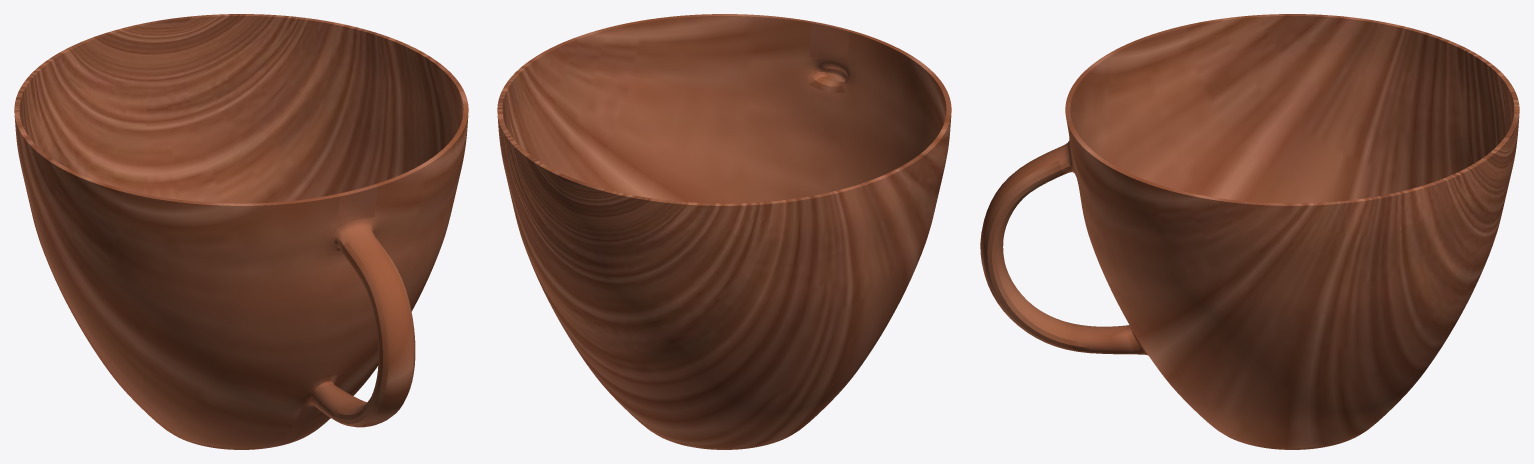
Rendered from CoffeeCup.glb.
The picture shows the model from 3 angles, left to right: view 1: azimuth 30°, elevation 25°; view 2: azimuth 150°, elevation 25°; view 3: azimuth 270°, elevation 25°; orthographic projection.
Parts seen in each view (by area): view 1: Cylinder; view 2: Cylinder; view 3: Cylinder.
Boxes of the visible parts, <box> form: Cylinder: <box>14,14,468,449</box>; Cylinder: <box>497,14,951,449</box>; Cylinder: <box>980,14,1519,449</box>.
Size of the model in its own units: 2.67 by 2 by 3.17.
Materials: 1 (1 with a texture image).
